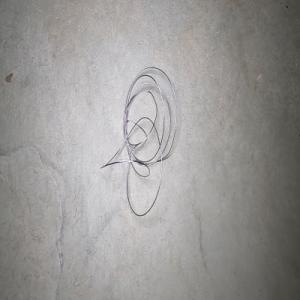Wire: (100, 66, 176, 216)
